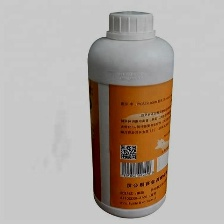insecticide: (85, 6, 176, 221)
